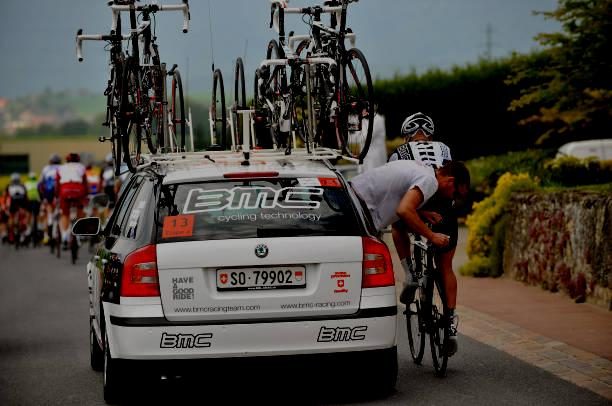skoda: (249, 243, 276, 260)
